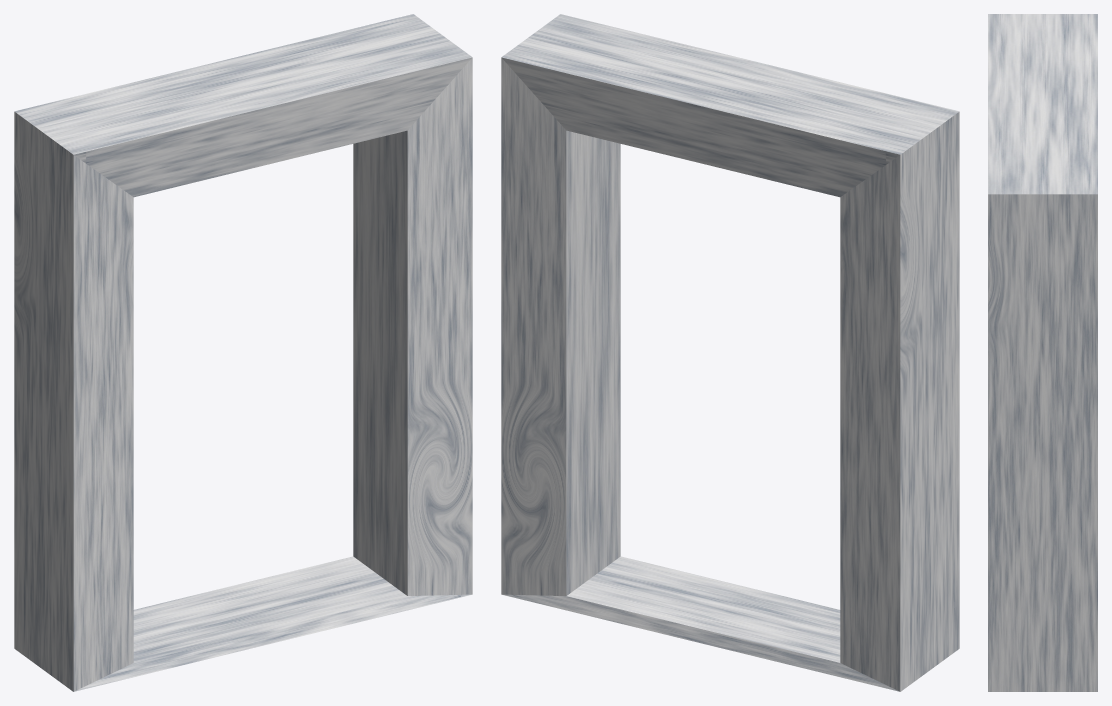
The model's file is door_frame.fbx.
3 renders of one model, left to right at view 1: azimuth 30°, elevation 25°; view 2: azimuth 150°, elevation 25°; view 3: azimuth 270°, elevation 25°, orthographic. The views are drawn at different scales.
Visible parts, largest first — view 1: doorFrame; view 2: doorFrame; view 3: doorFrame.
Part boxes in pixels (box(x1,y1,x2,y2)): doorFrame: box(14, 14, 472, 691); doorFrame: box(501, 14, 959, 691); doorFrame: box(988, 14, 1097, 691).
Size of the model in its own units: 350 by 450 by 90.
1 material, 1 textured.
